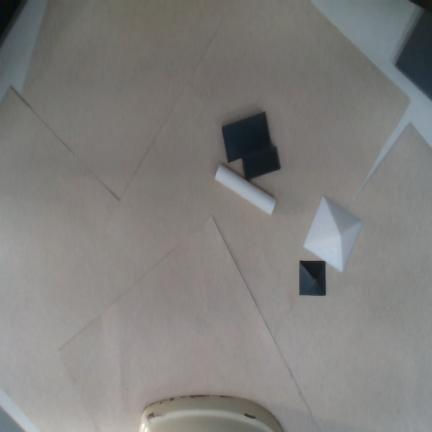Cilindro: (214, 164, 276, 216)
Paralelepipedo: (222, 111, 271, 164), (242, 146, 281, 179)
Piramide: (303, 195, 364, 274), (299, 260, 326, 296)
